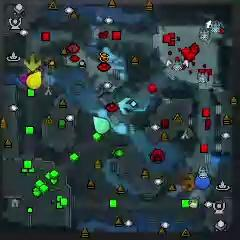p1: (194, 174, 211, 191)
p2: (93, 115, 110, 134)
p3: (17, 72, 31, 86)
p4: (27, 70, 43, 90)
x2: (24, 53, 43, 71)
x3: (117, 96, 135, 115)
x5: (182, 172, 196, 191)
